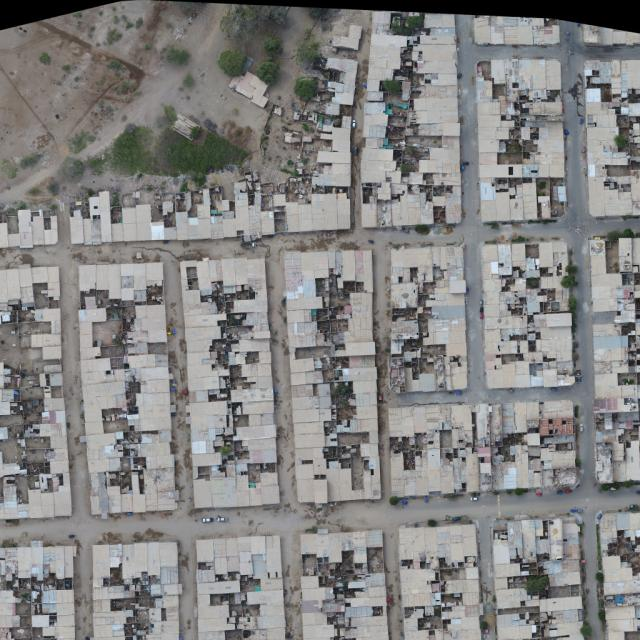building: (69, 259, 180, 520), (175, 255, 281, 510), (284, 248, 384, 506), (358, 10, 461, 229), (387, 398, 578, 498), (0, 265, 71, 519), (474, 56, 568, 223), (481, 241, 576, 390), (390, 246, 468, 392), (194, 534, 287, 640), (302, 531, 389, 640), (400, 525, 481, 639), (92, 543, 182, 640), (0, 541, 76, 640), (284, 191, 352, 233), (474, 16, 560, 45), (582, 25, 640, 44), (332, 23, 363, 50)
greenland: (104, 125, 247, 179), (213, 43, 251, 81), (296, 38, 325, 67), (259, 31, 286, 58), (293, 75, 318, 102), (255, 59, 279, 85)
